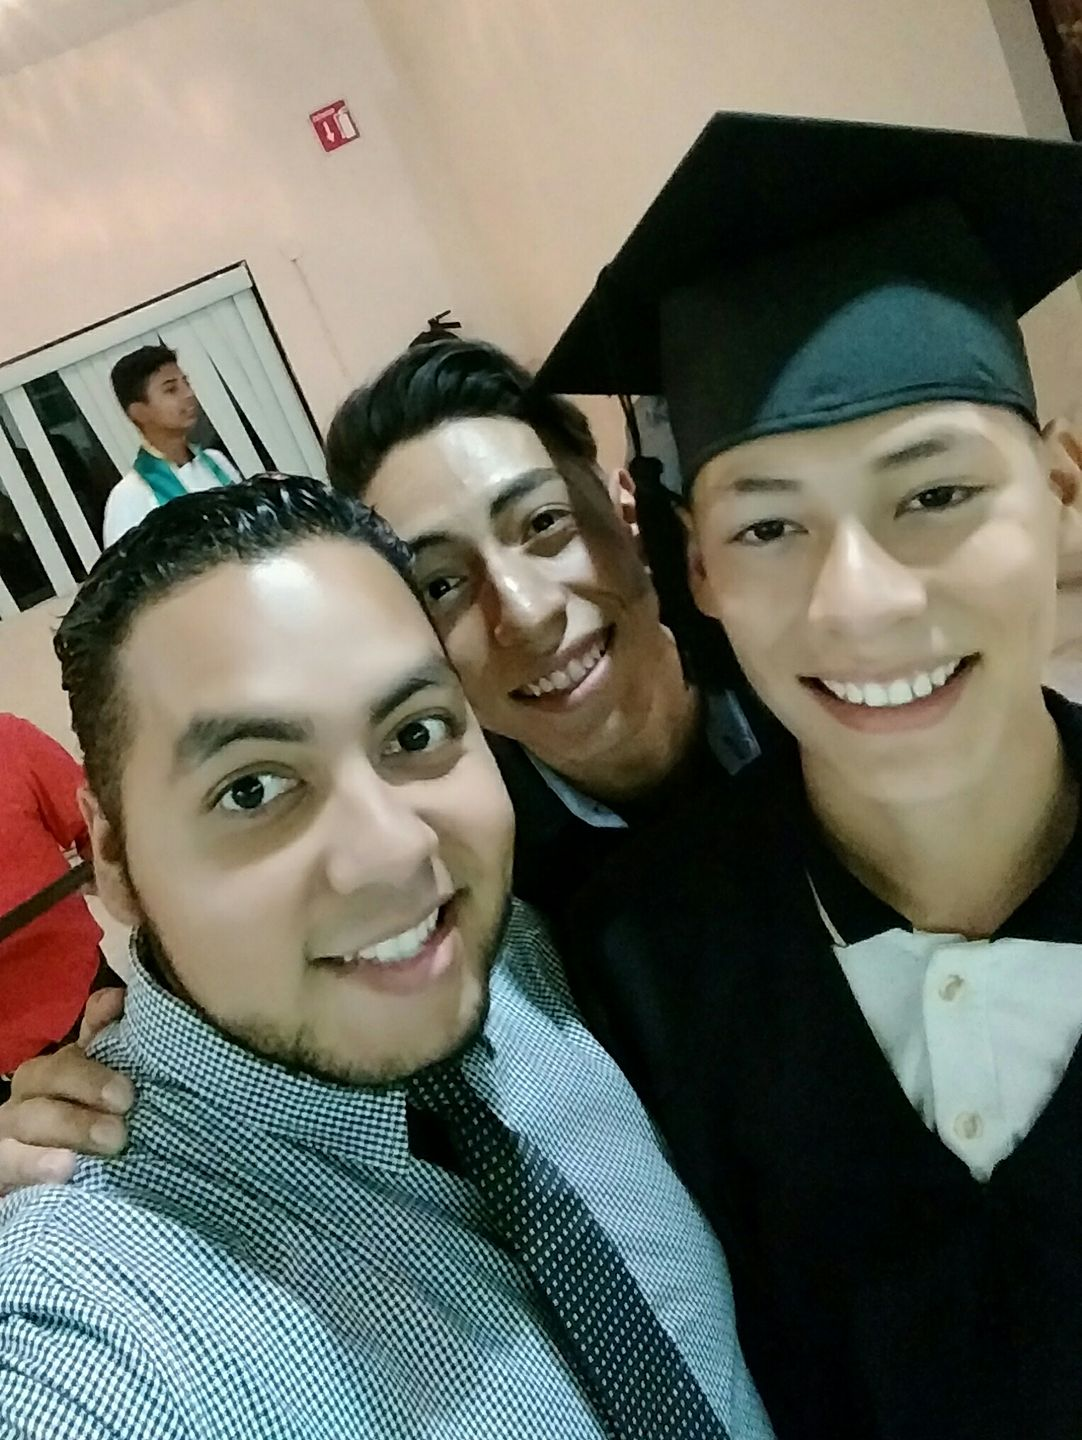Yoshi: (5, 503, 513, 1152)
